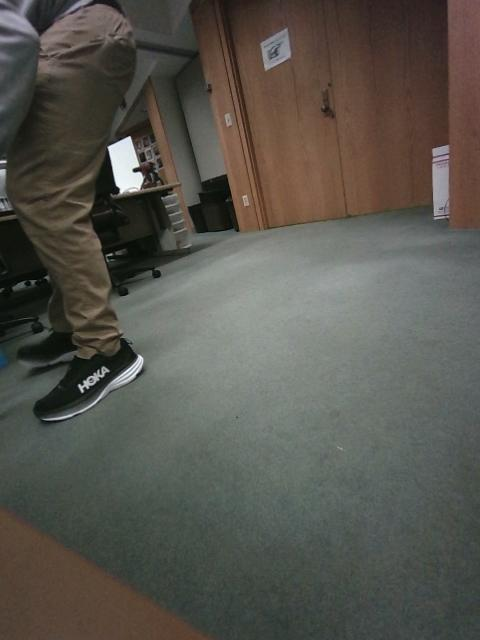block: (182, 281, 214, 306)
